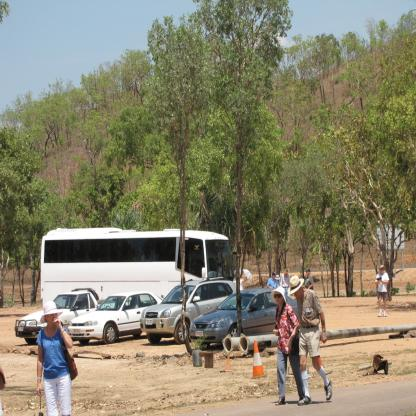Car: (140, 278, 242, 346), (188, 289, 299, 348), (69, 293, 163, 344)
